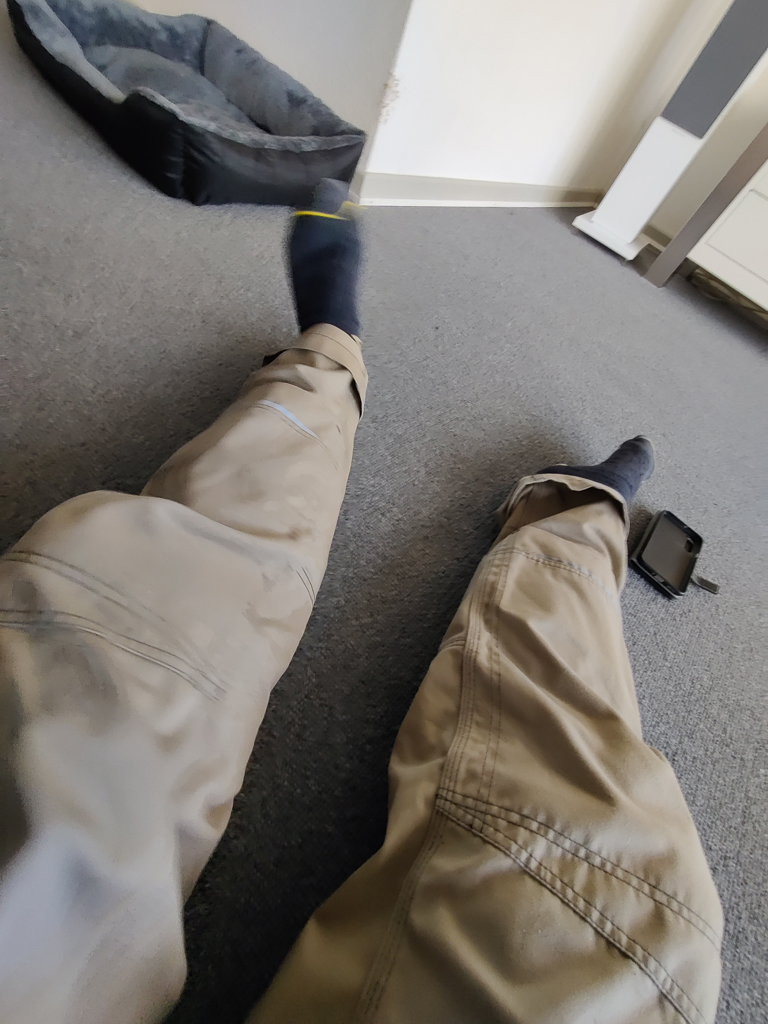Humanoid: (0, 163, 742, 1024)
